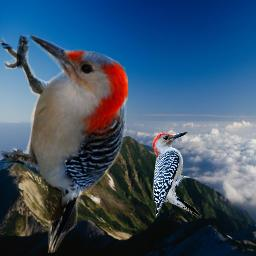Woodpecker: (1, 35, 128, 253), (148, 128, 206, 224)
